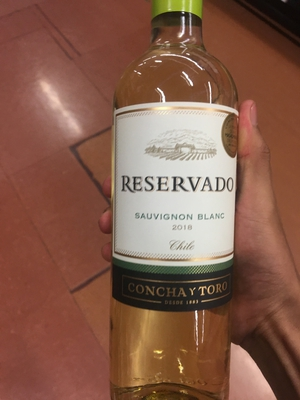reservado sauvignon blanc: (97, 22, 252, 400)
